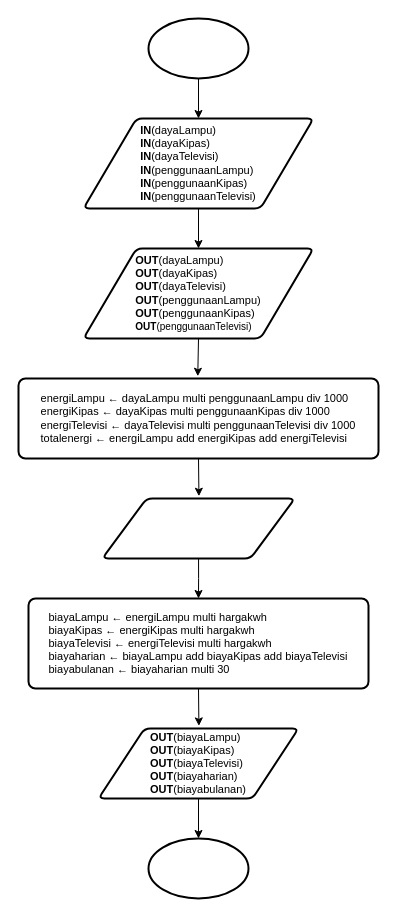
Image size: 396x916. Some labels were removed from this diagram. The centre of each missing label's shape, as x and y in pixels:
OUT (energiLampu) OUT (energiKipas) OUT (energiTelevisi) OUT (totalenergi): point (198, 528)
START: point (198, 48)
STOP: point (198, 868)
